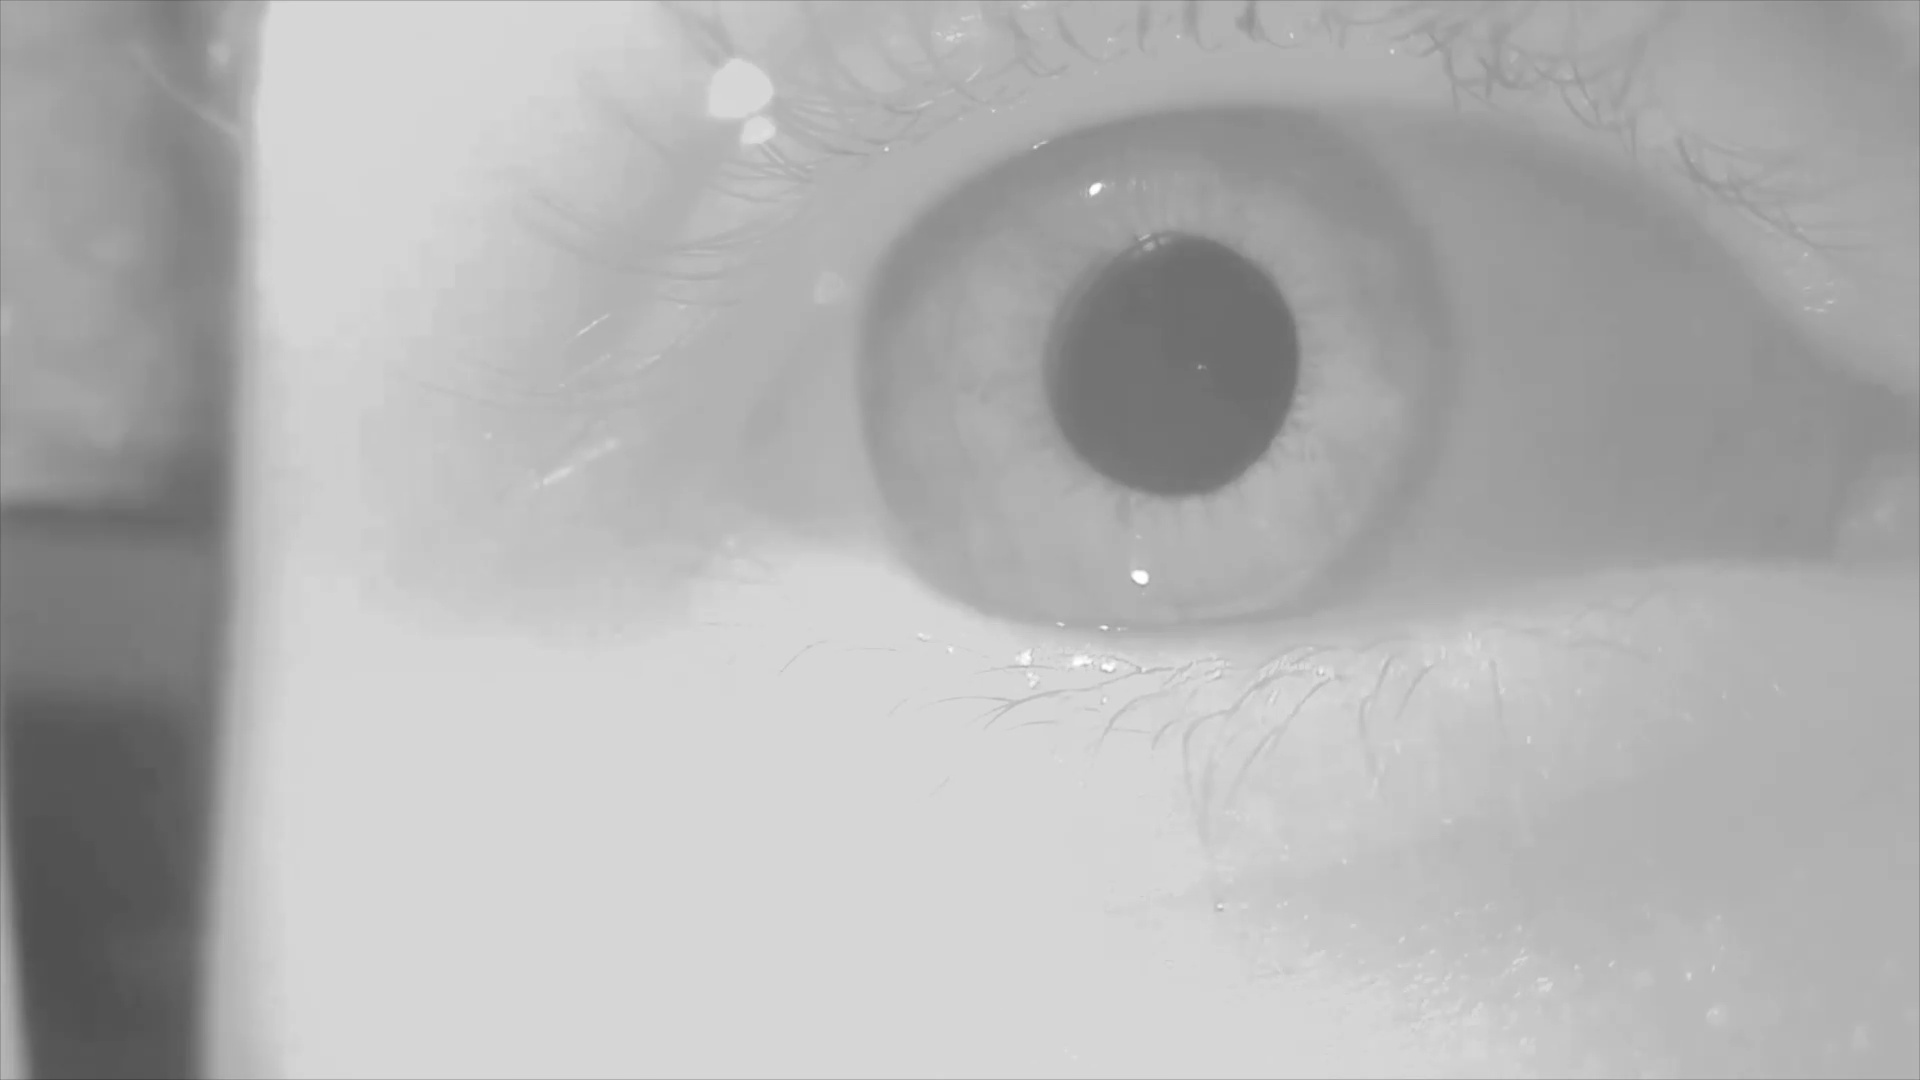pupil: (1037, 237, 1299, 497)
